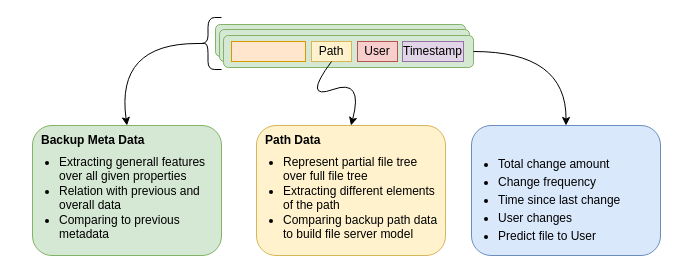
Some shapes in this 678 by 273 pixel diagram are drawn without their labels. Here are the shapes that lost their labels. From the top down, the box of each, then its label:
(230, 40, 306, 62): AccessType
(470, 124, 660, 256): File Data / History
